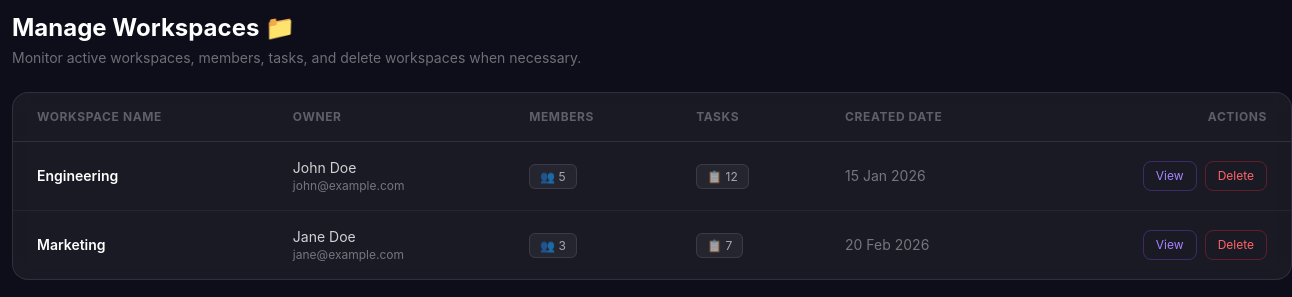
Test case: ManageWorkspaces › deletes a workspace after confirmation
The width and height of the screenshot is (1292, 297).
Expected: the text "Engineering" is shown, [13,142,269,210]
Click the button "Delete" in the row of "Engineering".
click(1236, 176)  # box [1205,161,1267,191]
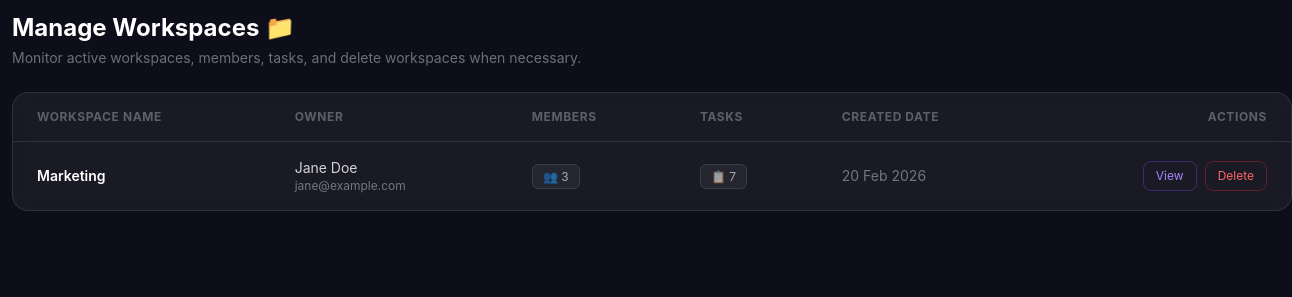
Expected: the text "Engineering" is gone
